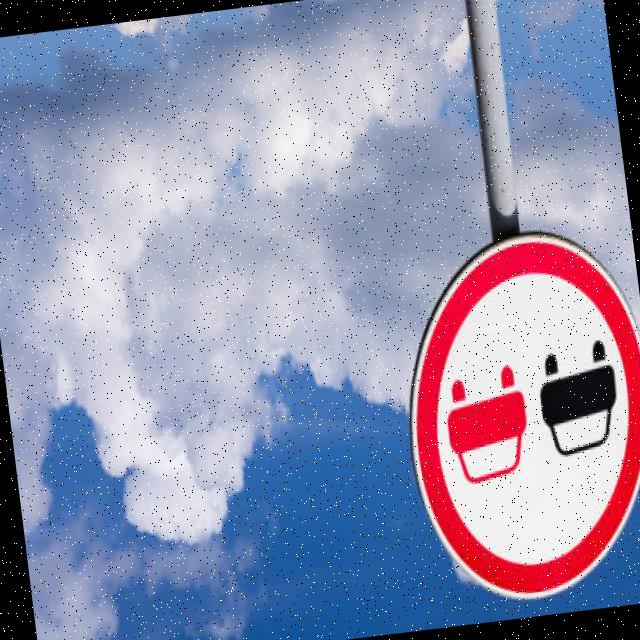no_passing: (377, 211, 640, 619)
